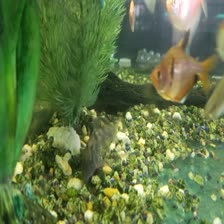Kiros: (74, 115, 108, 185)
Transparente: (152, 30, 213, 105)
